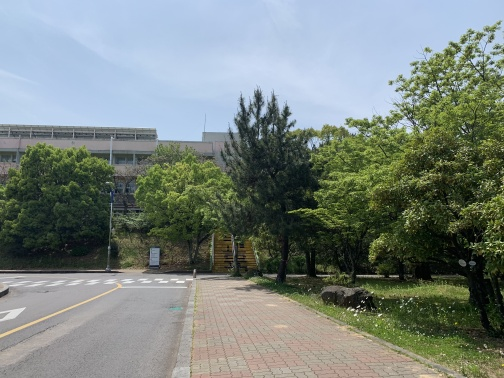College Of Education: (1, 116, 263, 212)
